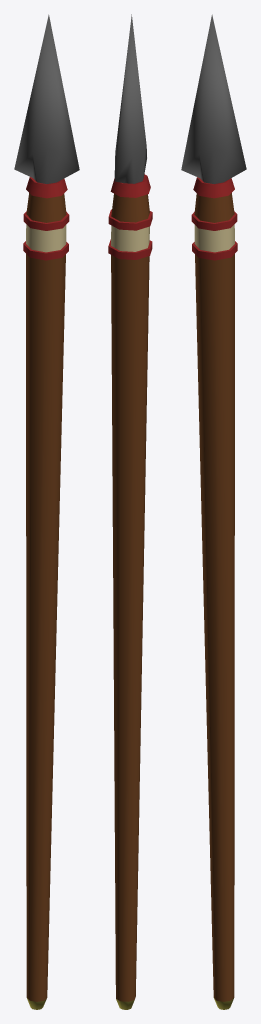
The model's file is darkness_object_spear.FBX.
The picture shows the model from 3 angles, left to right: view 1: azimuth 90°, elevation 25°; view 2: azimuth 150°, elevation 25°; view 3: azimuth 270°, elevation 25°; orthographic projection.
Visible parts, largest first — view 1: Cylinder009; view 2: Cylinder009; view 3: Cylinder009.
Boxes of the visible parts, x1,y1,x2,y2 form: Cylinder009: (14,14,79,1009); Cylinder009: (108,14,152,1009); Cylinder009: (181,14,246,1009).
Bounding box in the file's own units: 0.9082 × 21.79 × 1.3.
